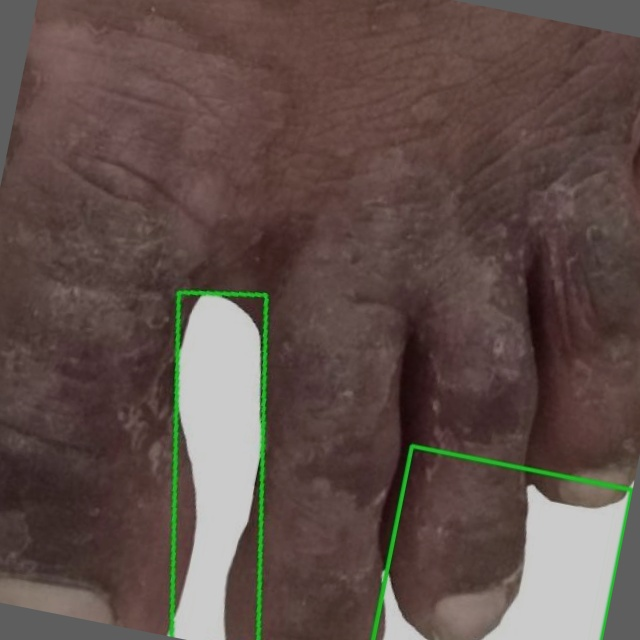Eczema: (372, 447, 631, 639), (169, 293, 265, 639)
